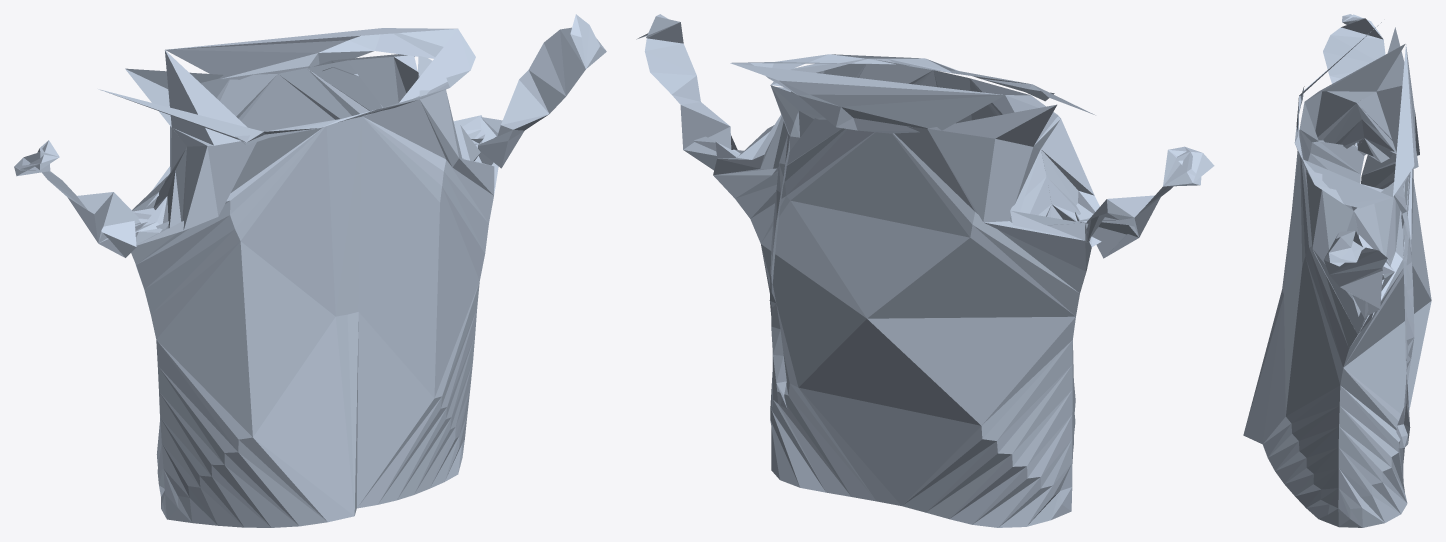
The model's file is neutral_settled_render.glb.
3 renders of one model, left to right at view 1: azimuth 30°, elevation 25°; view 2: azimuth 150°, elevation 25°; view 3: azimuth 270°, elevation 25°, orthographic. The views are drawn at different scales.
Visible parts, largest first — view 1: panel.front.render, panel.back.render, panel.neck_band.render, panel.sleeve.right.render, panel.sleeve.left.render; view 2: panel.back.render, panel.neck_band.render, panel.front.render, panel.sleeve.right.render, panel.sleeve.left.render; view 3: panel.front.render, panel.back.render, panel.neck_band.render, panel.sleeve.right.render, panel.sleeve.left.render.
Part boxes in pixels (<box>): panel.front.render: <box>131,50,494,527</box>; panel.back.render: <box>125,55,498,518</box>; panel.neck_band.render: <box>98,28,475,145</box>; panel.sleeve.right.render: <box>478,14,606,168</box>; panel.sleeve.left.render: <box>14,140,143,257</box>; panel.back.render: <box>713,87,1090,527</box>; panel.neck_band.render: <box>730,54,1095,408</box>; panel.front.render: <box>771,58,1101,463</box>; panel.sleeve.right.render: <box>636,14,737,170</box>; panel.sleeve.left.render: <box>1086,146,1214,258</box>; panel.front.render: <box>1243,44,1405,526</box>; panel.back.render: <box>1338,27,1431,527</box>; panel.neck_band.render: <box>1294,22,1418,448</box>; panel.sleeve.right.render: <box>1324,230,1387,318</box>; panel.sleeve.left.render: <box>1323,14,1385,146</box>.
Bounding box in the file's own units: 1.04 × 0.7715 × 0.3477.
